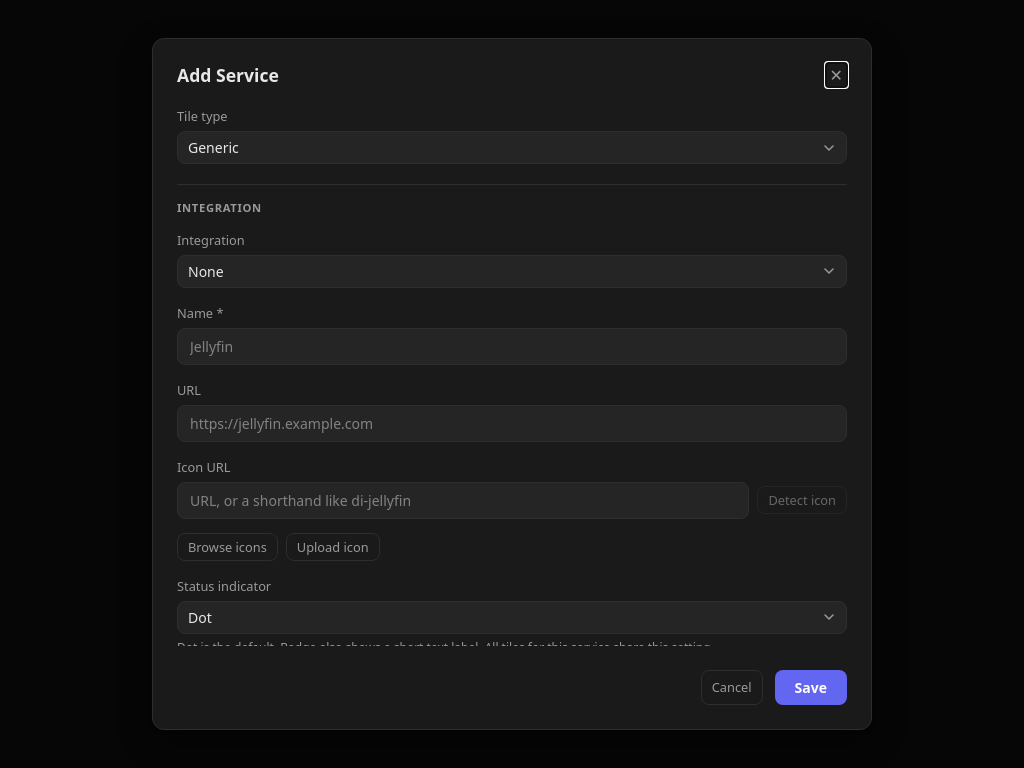
it: ServiceForm – icon detection › fills the Icon URL field when detection finds an icon
This screenshot has width=1024, height=768.
In the field labelled "URL": (512, 423) [177,405,847,442], type "http://jellyfin.local"
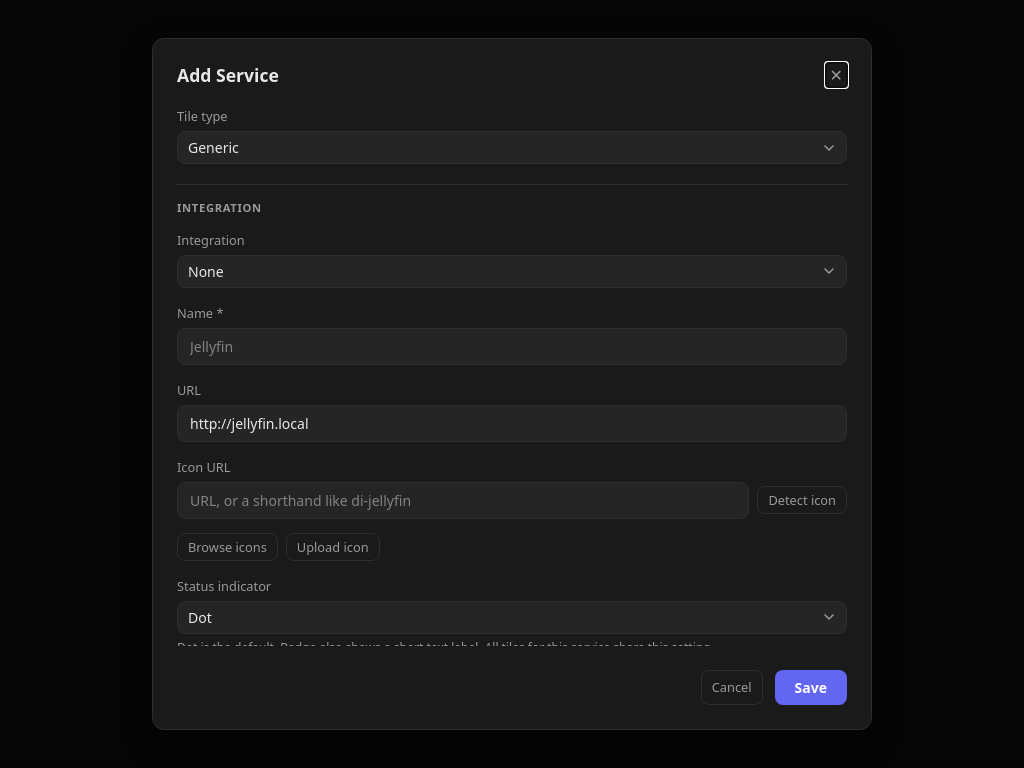
Click the button "Detect icon": click(802, 500) [757,486,847,514]
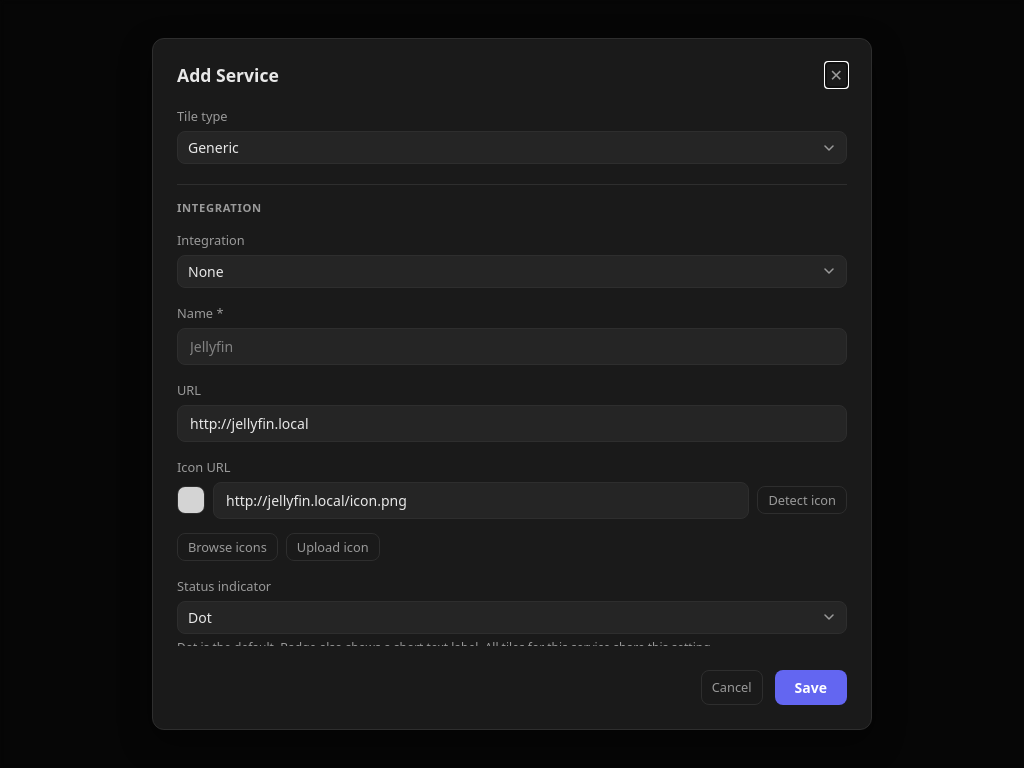
expect the field labelled "Icon URL" holds "http://jellyfin.local/icon.png": met, box [213,482,749,519]
